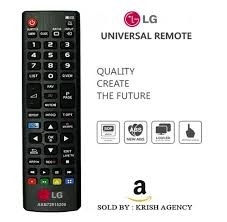remote control: (23, 15, 81, 214)
